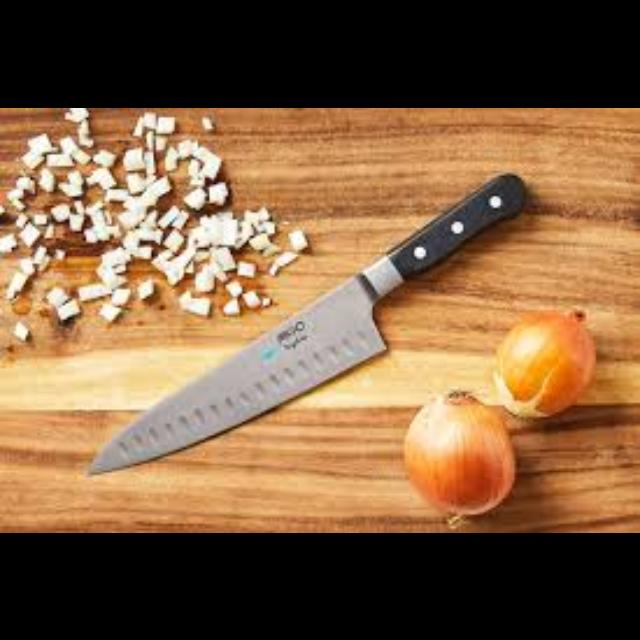Knife: (87, 170, 526, 474)
